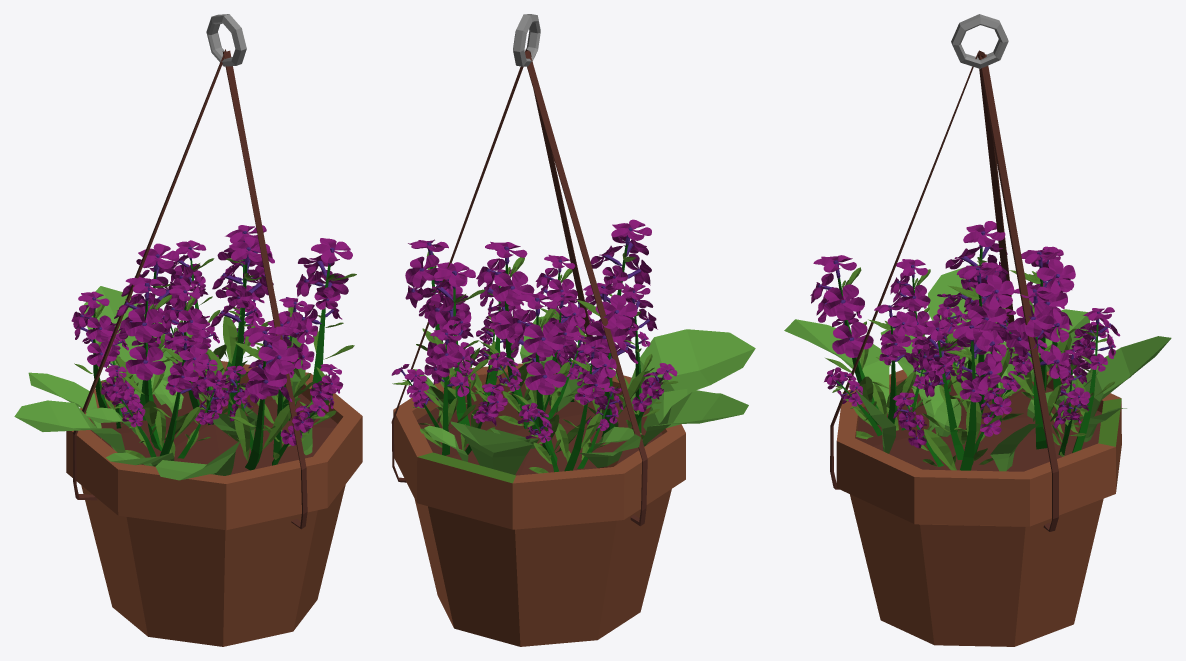
File: hanging_plant.fbx
3 views of the same model, side by side, from view 1: azimuth 30°, elevation 25°; view 2: azimuth 150°, elevation 25°; view 3: azimuth 270°, elevation 25° (orthographic).
Visible parts, largest first — view 1: Planter.003; view 2: Planter.003; view 3: Planter.003.
Boxes of the visible parts, <box> form: Planter.003: <box>14,14,362,646</box>; Planter.003: <box>391,14,755,646</box>; Planter.003: <box>784,14,1171,646</box>.
Bounding box in the file's own units: 50.46 × 84.23 × 49.66.
